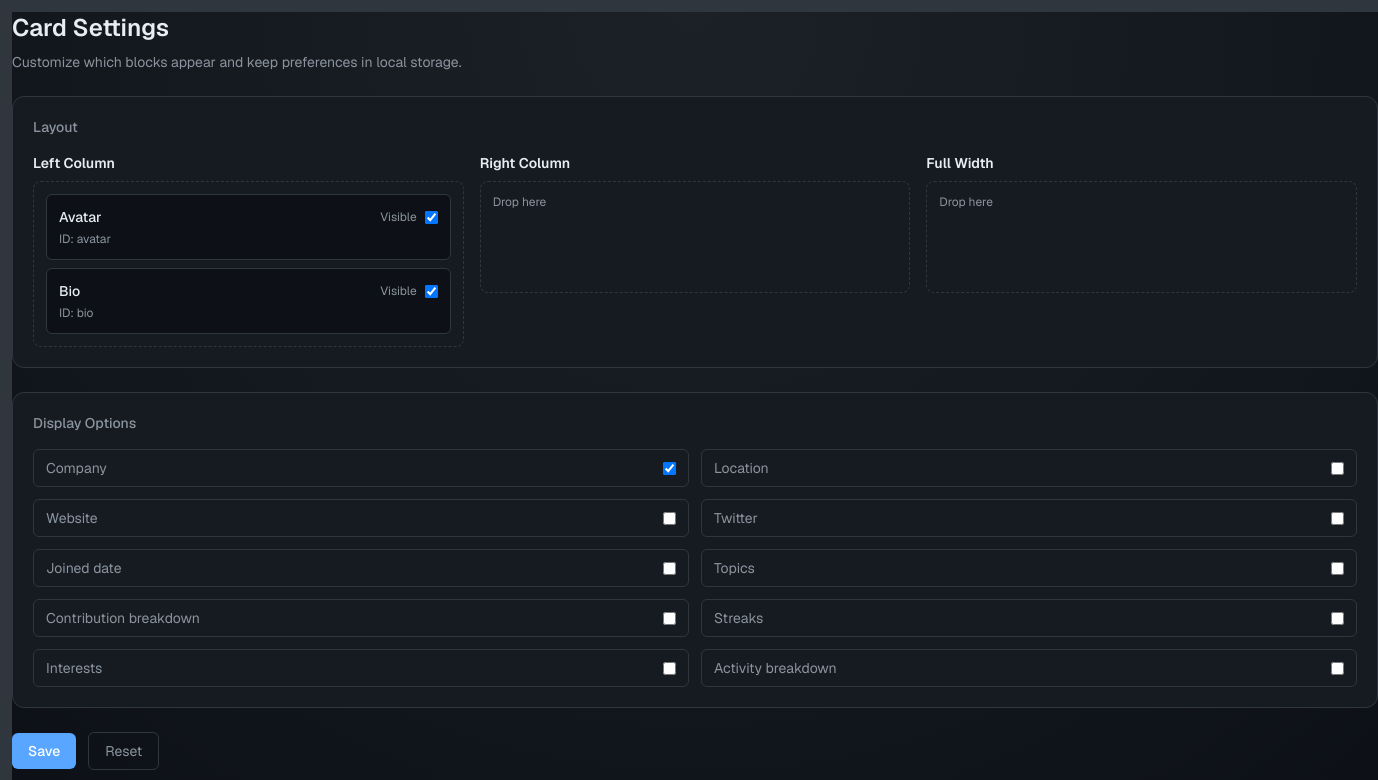
DashboardSettingsClient › handles save action
What coordinates should you click on to do the following:
click the button "Save"
I would click on:
 (44, 751)
Its box is [12, 733, 76, 769].
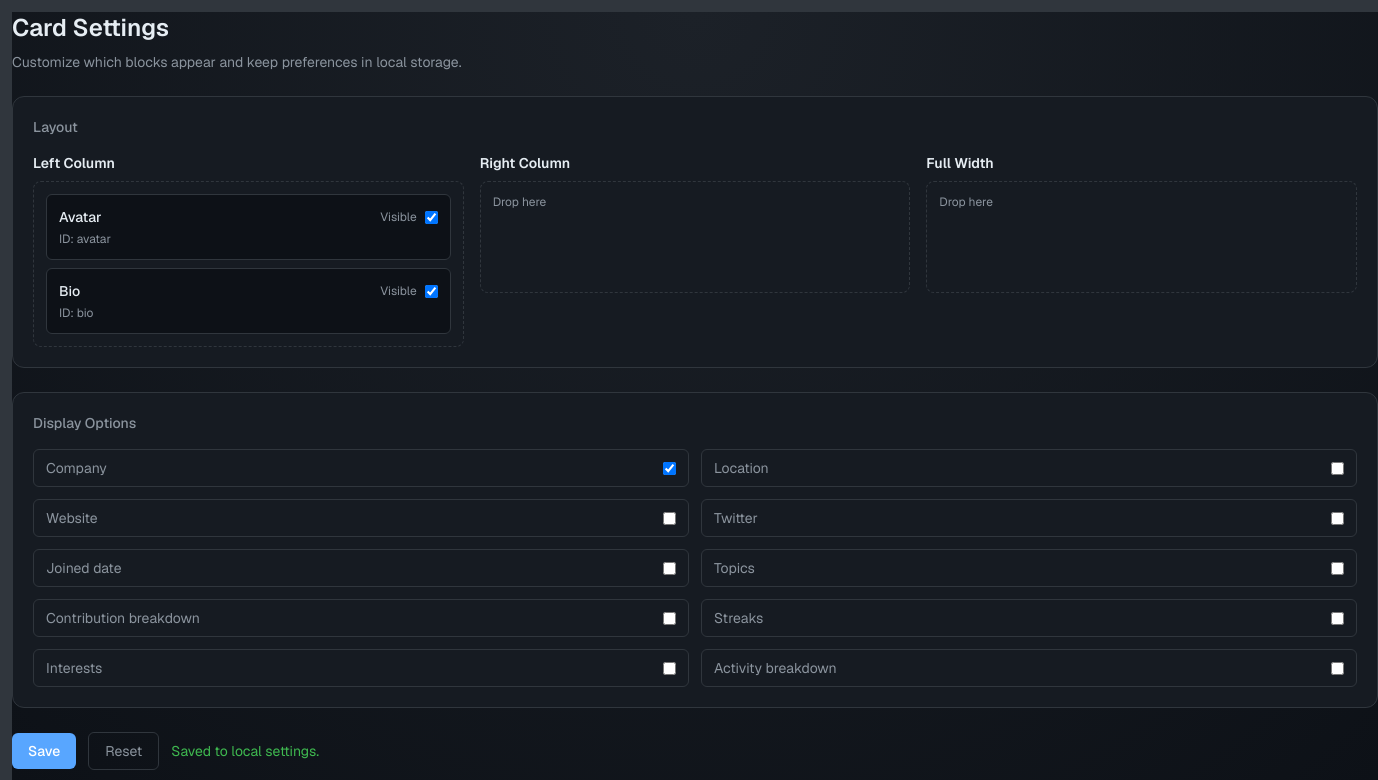
Expected: the text "Saved to local settings." is shown, [171, 741, 319, 761]
